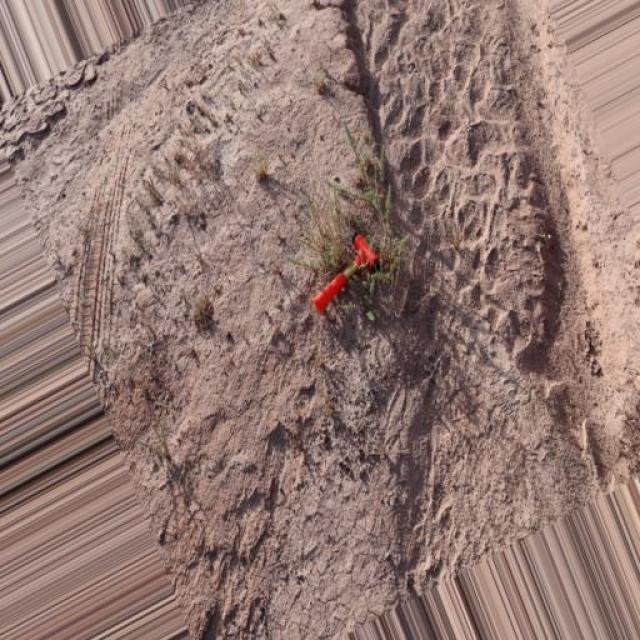mallet: (310, 231, 379, 315)
